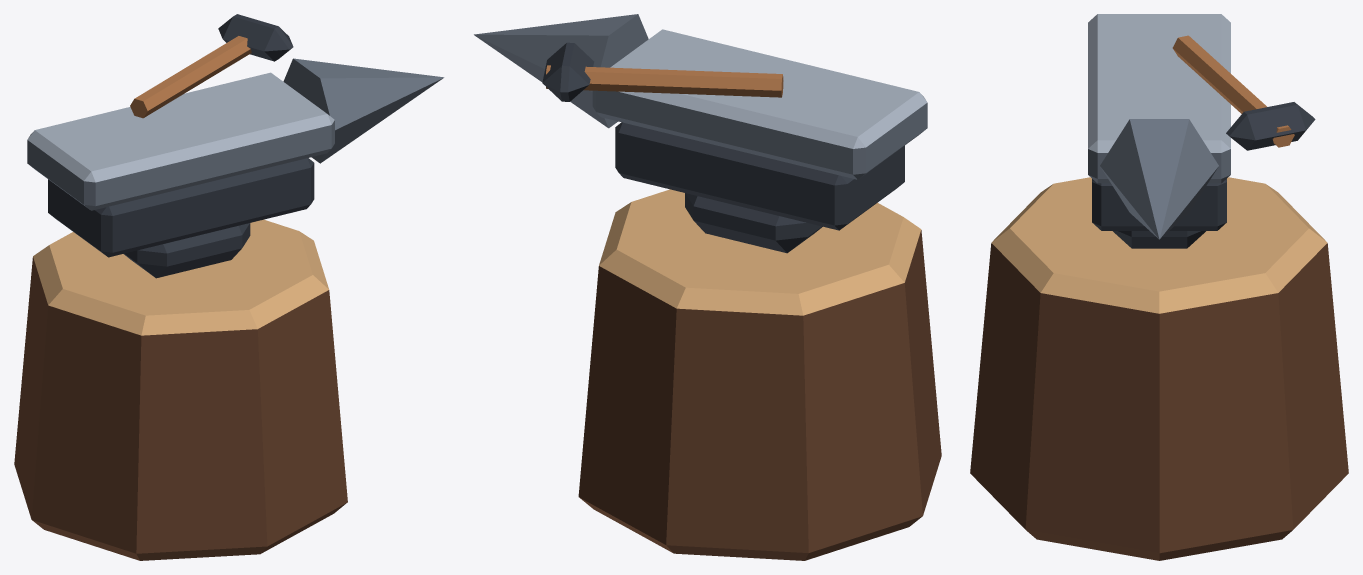
The model's file is Prop_Anvil.fbx.
3 views of the same model, side by side, from view 1: azimuth 30°, elevation 25°; view 2: azimuth 150°, elevation 25°; view 3: azimuth 270°, elevation 25° (orthographic). The views are drawn at different scales.
Visible parts, largest first — view 1: Prop_Anvil; view 2: Prop_Anvil; view 3: Prop_Anvil.
Boxes of the visible parts, x1=… form: Prop_Anvil: x1=14, y1=14, x2=444, y2=560; Prop_Anvil: x1=474, y1=14, x2=941, y2=560; Prop_Anvil: x1=970, y1=14, x2=1348, y2=560.
Size of the model in its own units: 0.6583 by 0.62 by 0.4767.
